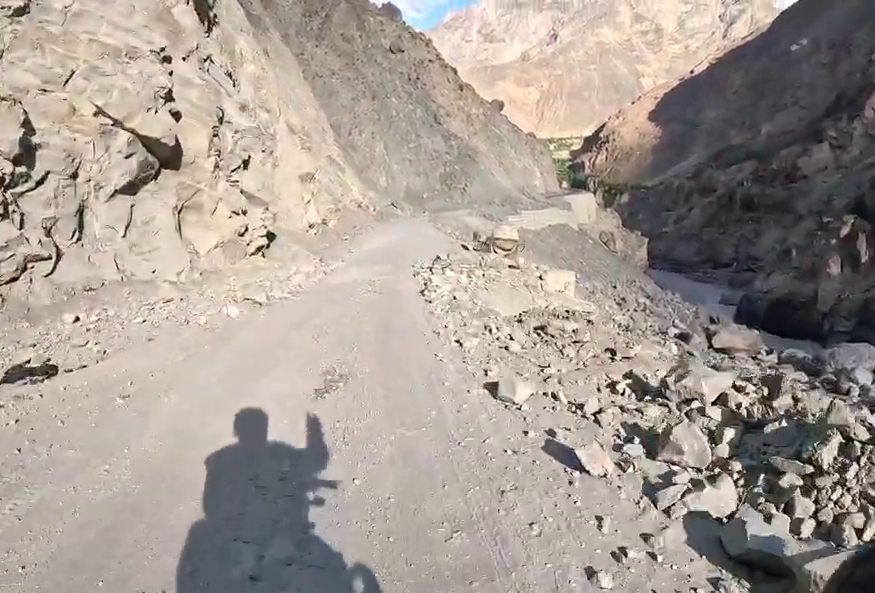unexpected: (369, 183, 788, 404)
